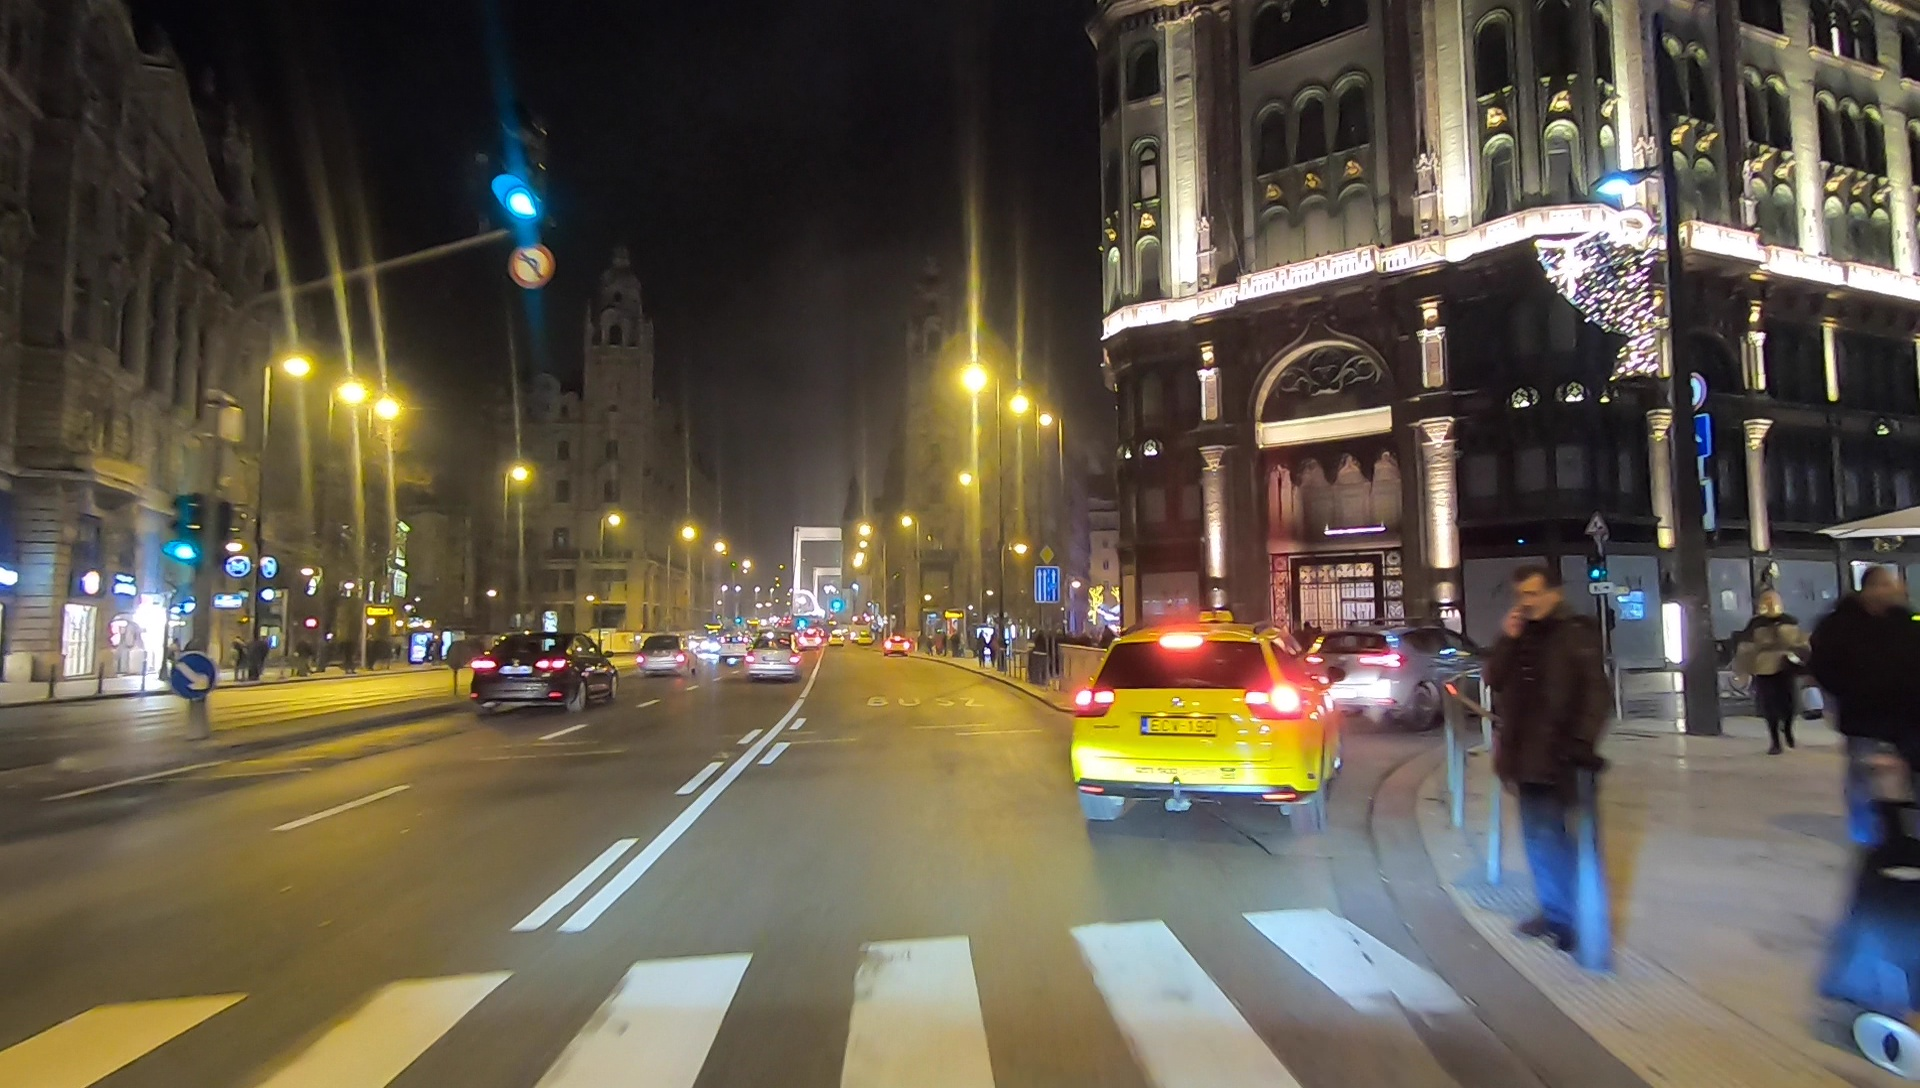person: (1484, 561, 1606, 954), (1821, 561, 1917, 858), (1734, 587, 1814, 758), (232, 637, 246, 681), (975, 630, 987, 670), (988, 631, 1001, 666), (950, 630, 959, 659)
